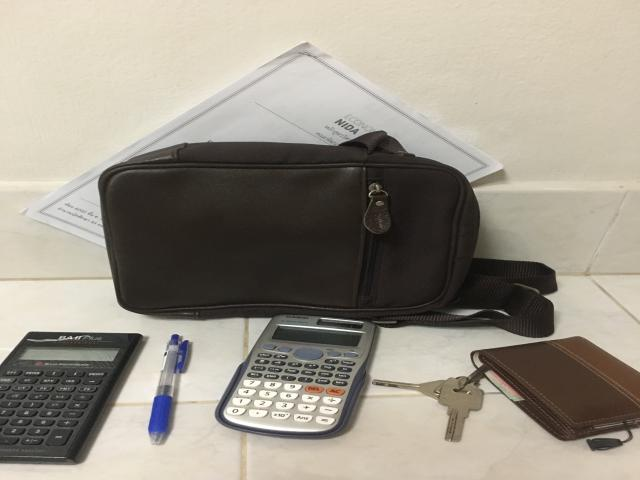Keys: (371, 365, 488, 442)
Pen: (148, 335, 188, 444)
Wallet: (472, 337, 640, 450)
paper: (23, 42, 503, 297)
